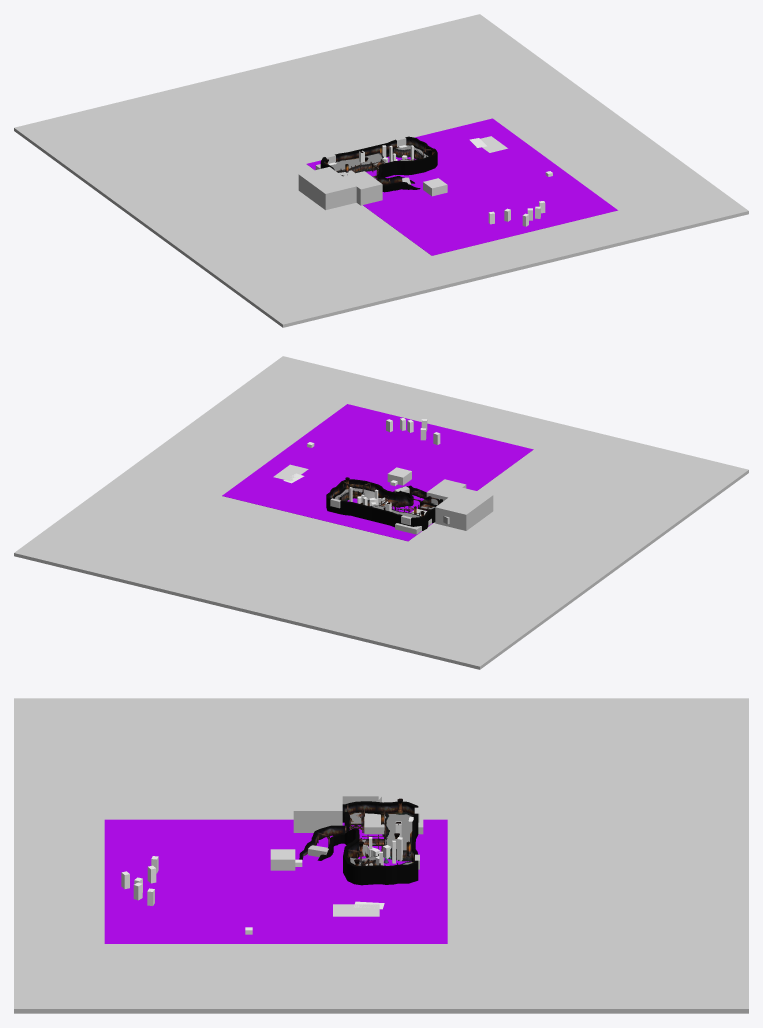
The picture shows the model from 3 angles, top to bottom: view 1: azimuth 30°, elevation 25°; view 2: azimuth 150°, elevation 25°; view 3: azimuth 270°, elevation 25°; orthographic projection. The views are drawn at different scales.
Visible parts, largest first — view 1: Cube_jimen, NavGrid_CheckArea, Game_Camera_Limit01, Dun031_Wall001, Game_Camera_Limit01 (1), BGMap_03_Dun1_3; view 2: Cube_jimen, NavGrid_CheckArea, Dun031_Wall001, Game_Camera_Limit01, dungeon_031_Object_005, Game_Camera_Limit01 (1); view 3: Cube_jimen, NavGrid_CheckArea, Dun031_Wall001, Game_Camera_Limit01 (×2), Game_Camera_Limit01 (1), BGMap_03_Dun1_3, dungeon_031_Object_005, Dan003, Cube, Cube (9).
Boxes of the visible parts, bbox=[...] form: Cube_jimen: bbox=[14, 14, 748, 327]; NavGrid_CheckArea: bbox=[306, 118, 617, 255]; Game_Camera_Limit01: bbox=[298, 167, 356, 210]; Dun031_Wall001: bbox=[320, 136, 437, 180]; Game_Camera_Limit01 (1): bbox=[343, 171, 382, 205]; BGMap_03_Dun1_3: bbox=[328, 145, 428, 170]; Cube_jimen: bbox=[14, 356, 748, 669]; NavGrid_CheckArea: bbox=[222, 404, 533, 541]; Dun031_Wall001: bbox=[326, 479, 442, 530]; Game_Camera_Limit01: bbox=[435, 487, 493, 530]; dungeon_031_Object_005: bbox=[332, 480, 438, 515]; Game_Camera_Limit01 (1): bbox=[426, 479, 466, 504]; Cube_jimen: bbox=[14, 698, 748, 1013]; NavGrid_CheckArea: bbox=[104, 819, 447, 943]; Dun031_Wall001: bbox=[343, 801, 418, 885]; Game_Camera_Limit01 (×2): bbox=[305, 775, 423, 834]; Game_Camera_Limit01 (1): bbox=[293, 796, 342, 832]; BGMap_03_Dun1_3: bbox=[350, 812, 412, 865]; dungeon_031_Object_005: bbox=[317, 804, 410, 866]; Dan003: bbox=[299, 804, 344, 860]; Cube: bbox=[333, 904, 379, 916]; Cube (9): bbox=[270, 849, 295, 870].
Size of what is drawn, in the model's own units: 150 by 10 by 150.
